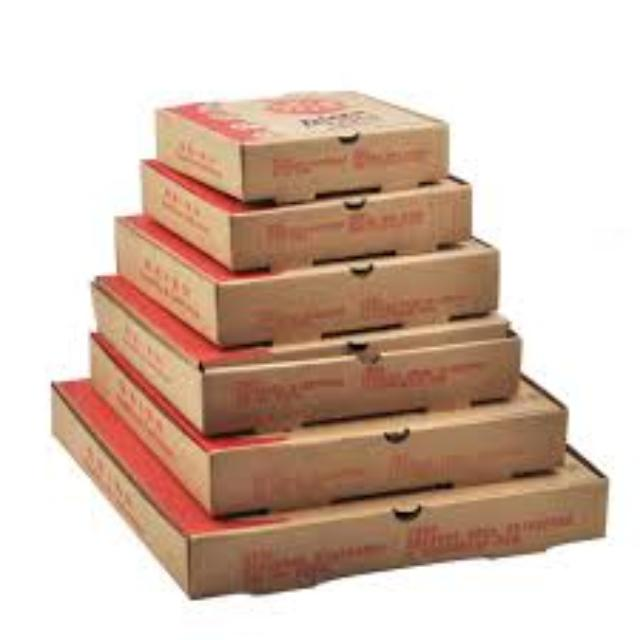cardboard paper: (57, 378, 606, 594), (91, 341, 560, 512), (100, 282, 518, 432), (122, 219, 495, 341), (142, 159, 469, 267), (154, 88, 444, 199)
